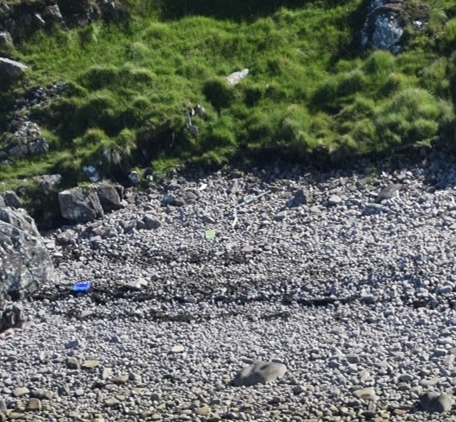straight_bar: (230, 185, 276, 212)
white_in_green: (52, 260, 114, 316)
